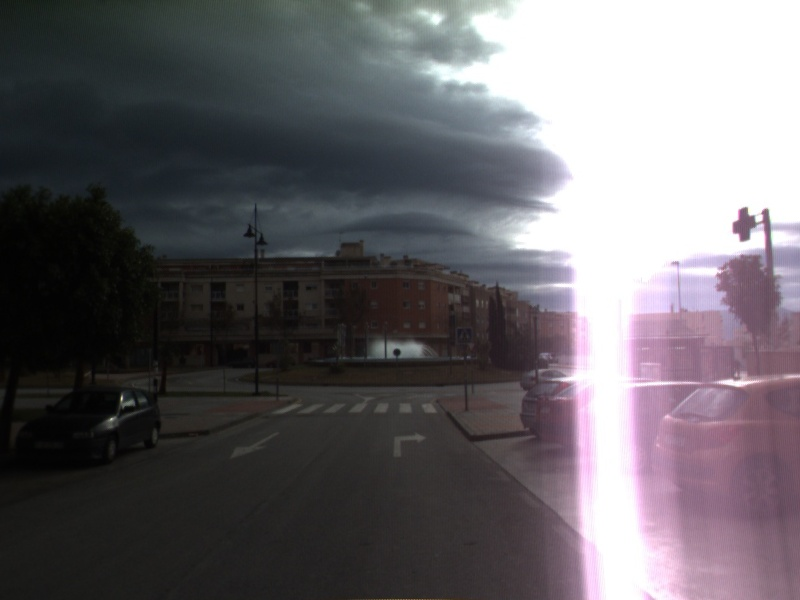RIGHT: (391, 430, 429, 459)
